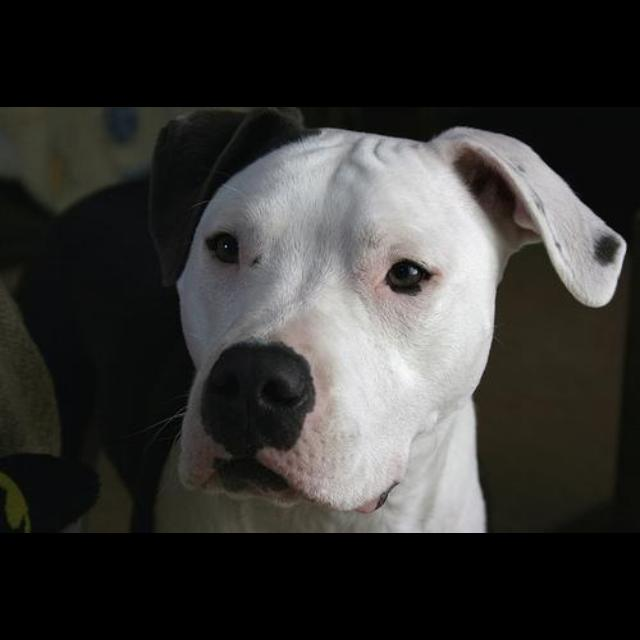amstaff: (14, 108, 628, 532)
